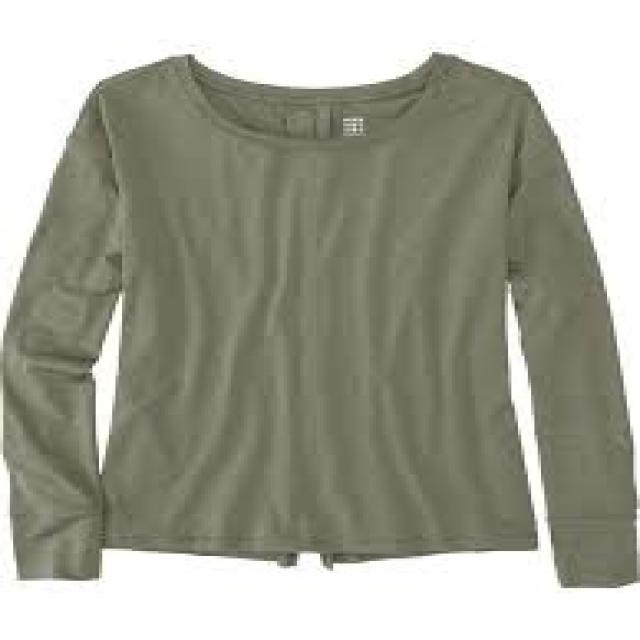plain: (7, 49, 634, 588)
